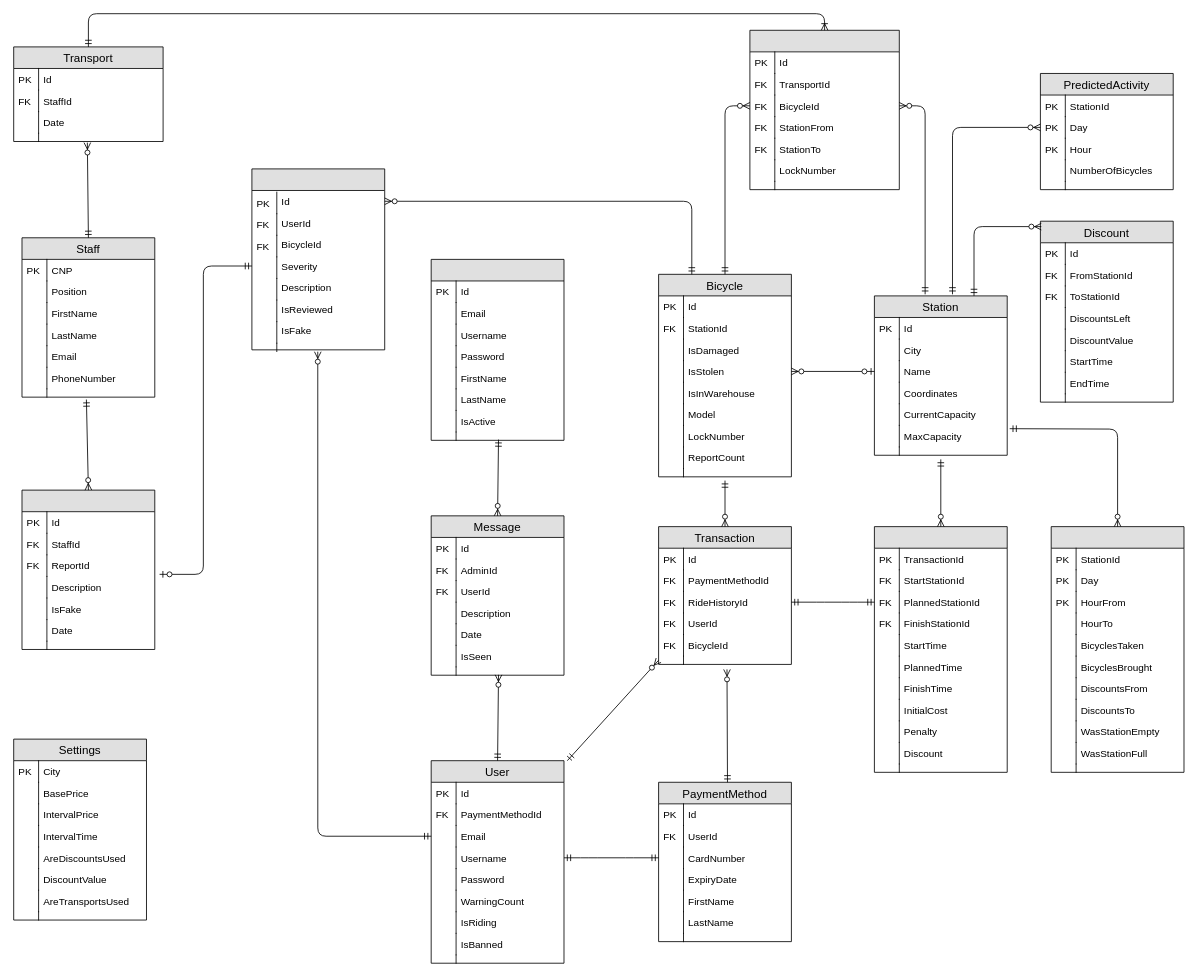
Image size: 1198x977. Some labels were removed from this diagram. Here are the shapes that lost their labels. From the top down, the box of each, then its label:
(749, 29, 899, 190): TransportLine
(251, 168, 385, 350): Report
(430, 259, 564, 440): Admin
(21, 489, 155, 649): Inspection
(874, 526, 1007, 772): RideHistory
(1050, 526, 1184, 772): Activity
